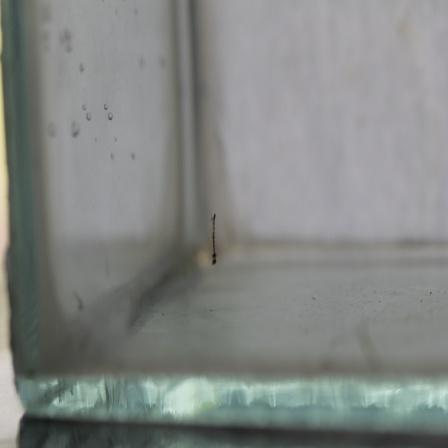Jentik-Nyamuk: (207, 211, 223, 267)
